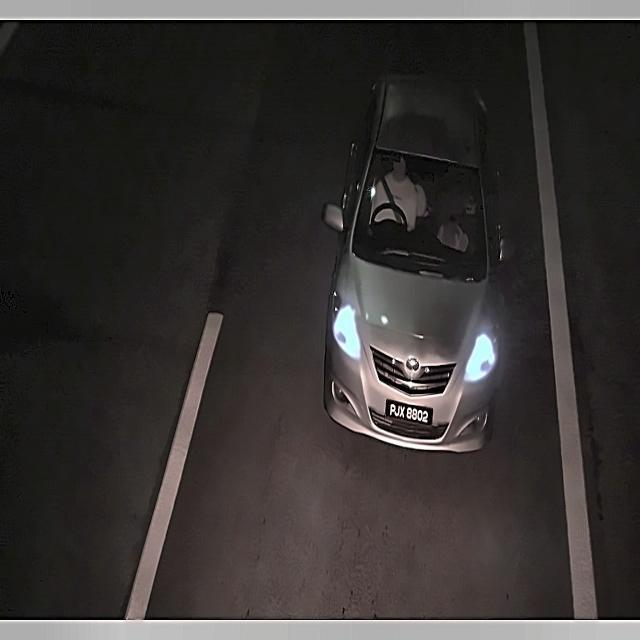car: (381, 395, 438, 432)
